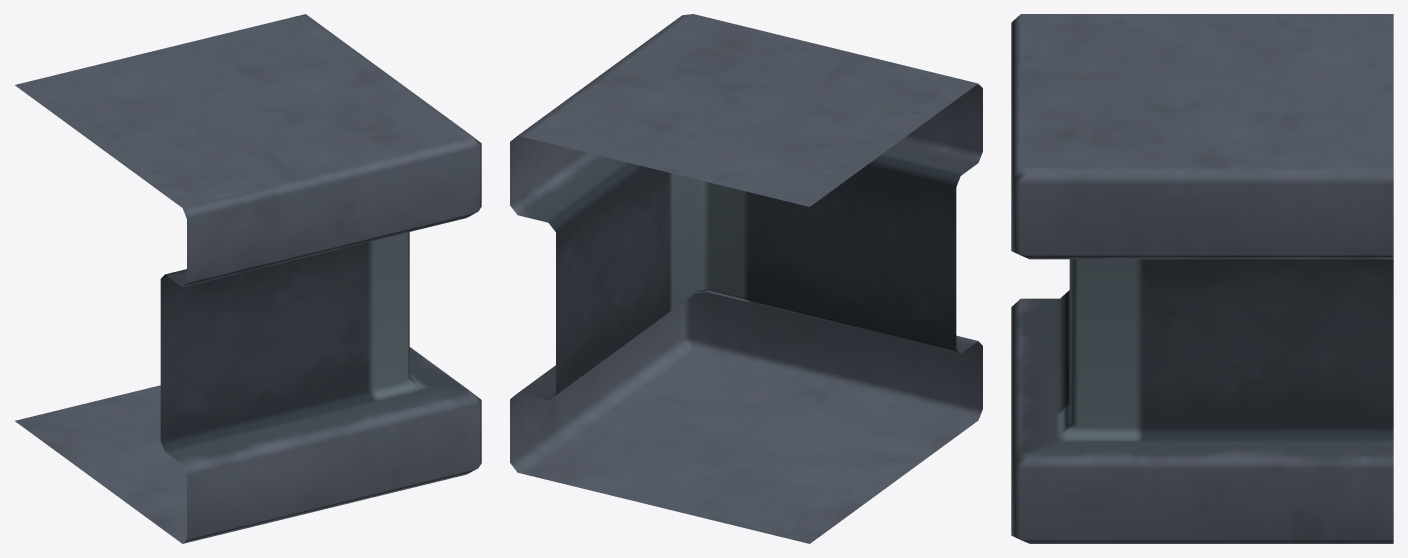
The model's file is TrimV1_End.fbx.
3 renders of one model, left to right at view 1: azimuth 30°, elevation 25°; view 2: azimuth 150°, elevation 25°; view 3: azimuth 270°, elevation 25°, orthographic. The views are drawn at different scales.
Parts seen in each view (by area): view 1: TrimV1_End; view 2: TrimV1_End; view 3: TrimV1_End.
Boxes of the visible parts, x1=… form: TrimV1_End: x1=15, y1=14, x2=481, y2=543; TrimV1_End: x1=510, y1=14, x2=982, y2=543; TrimV1_End: x1=1011, y1=14, x2=1393, y2=543.
Bounding box in the file's own units: 50.79 × 54.58 × 50.79.
Materials: 1 (1 with a texture image).
